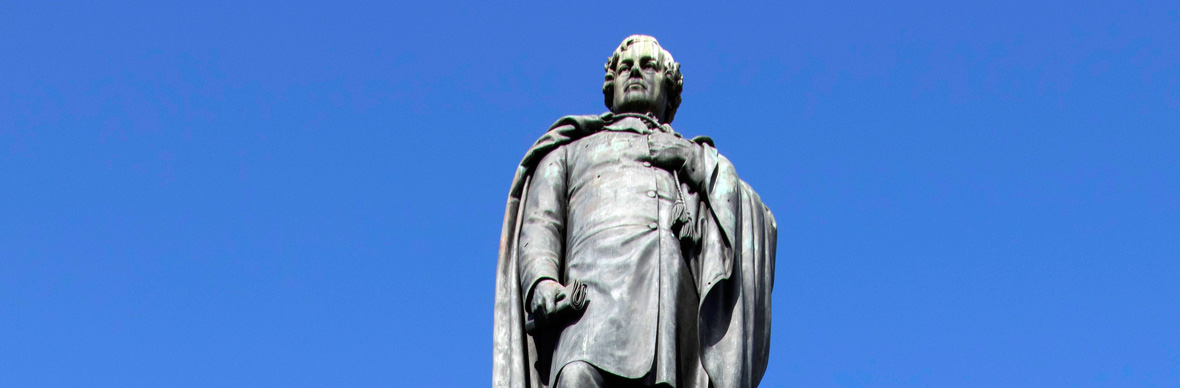person-like: (487, 25, 786, 388)
